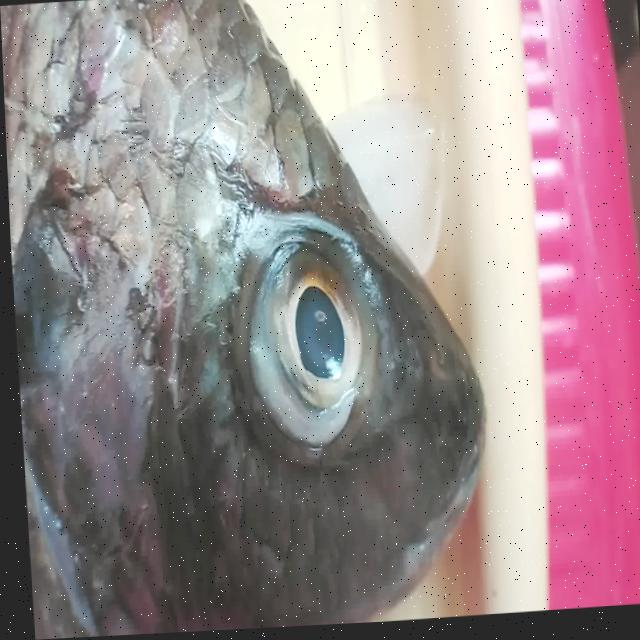Fresh: (216, 191, 389, 483)
